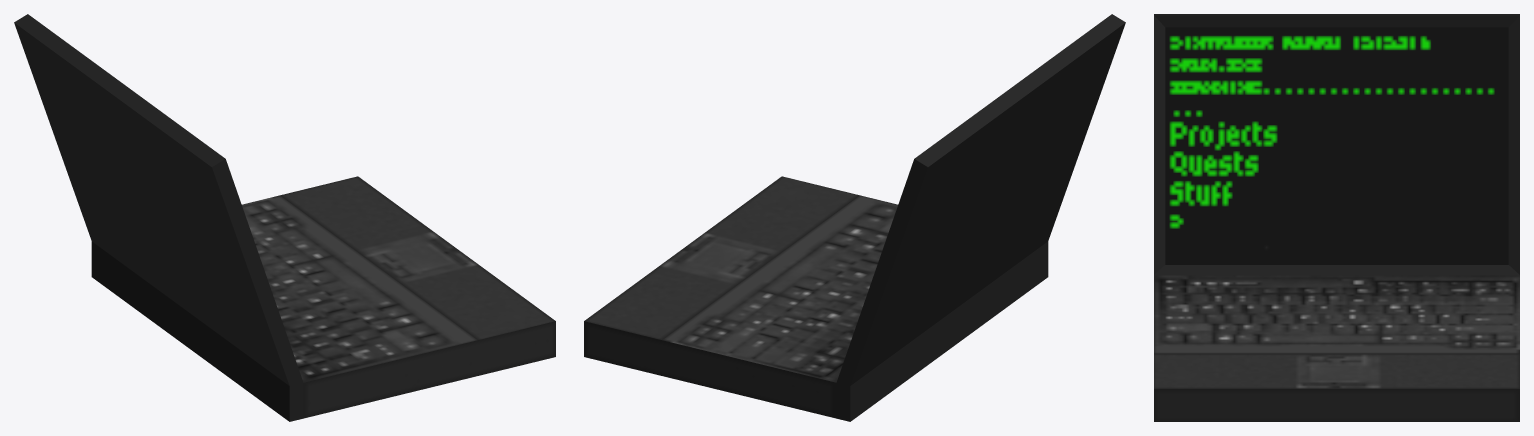
The model's file is laptop.glb.
3 renders of one model, left to right at view 1: azimuth 30°, elevation 25°; view 2: azimuth 150°, elevation 25°; view 3: azimuth 270°, elevation 25°, orthographic. The views are drawn at different scales.
Visible parts, largest first — view 1: Cube; view 2: Cube; view 3: Cube.
Boxes of the visible parts, x1,y1,x2,y2 form: Cube: (14, 14, 555, 421); Cube: (584, 14, 1125, 421); Cube: (1154, 14, 1519, 421).
Size of the model in its own units: 2.58 by 2 by 2.57.
Materials: 4 (1 with a texture image).
